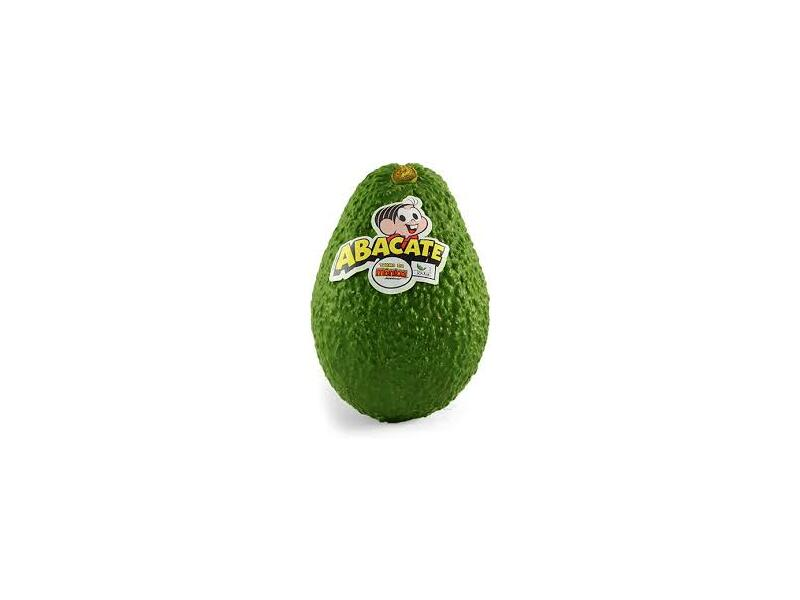abacate: (308, 157, 489, 425)
